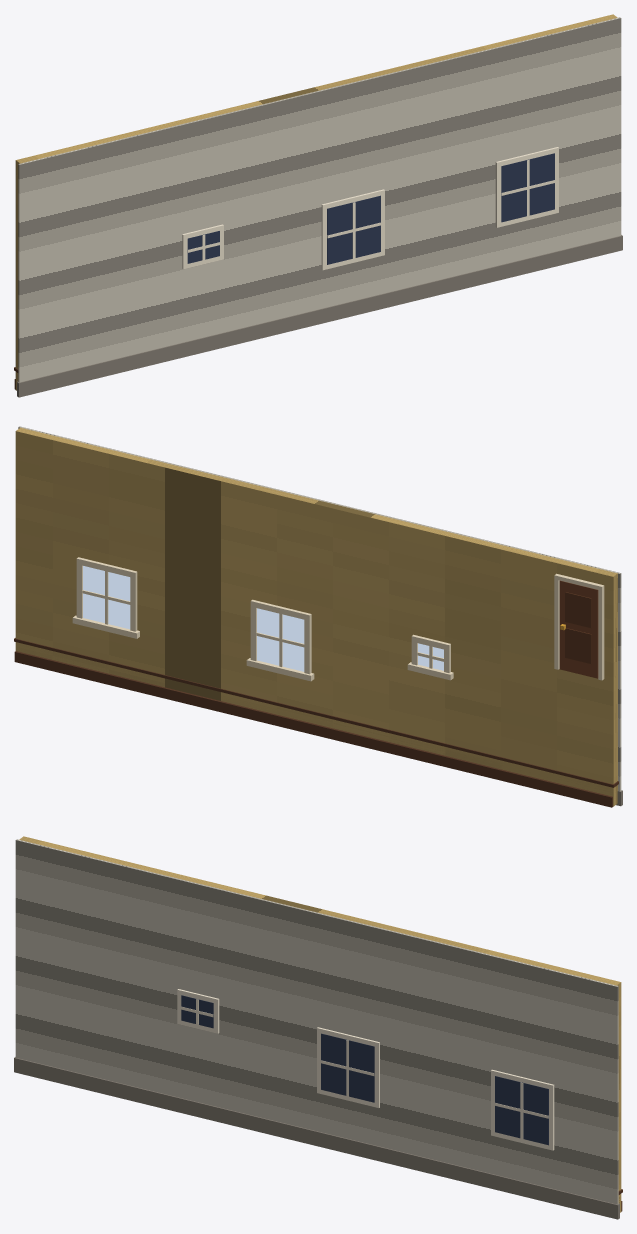
Rendered from back.glb.
3 views of the same model, one above another, from view 1: azimuth 30°, elevation 25°; view 2: azimuth 150°, elevation 25°; view 3: azimuth 330°, elevation 25° (orthographic).
Visible parts, largest first — view 1: Box3, Box4, Box1, Box6, Box17, Box16, Box5, Box28, Box27; view 2: Box1, Box2, Box42, Box43, Box13, Box24, slab, Box3, slab_panel, slab_panel2, Box39, Box40 (+2 smaller); view 3: Box3, Box4, Box1, Box6, Box17, Box16, Box5, Box27, Box28.
Part boxes in pixels (left/top/right/bottom): Box3: left=18, top=17, right=621, bottom=382; Box4: left=17, top=235, right=622, bottom=397; Box1: left=15, top=14, right=617, bottom=390; Box6: left=327, top=195, right=380, bottom=264; Box17: left=501, top=153, right=554, bottom=222; Box16: left=495, top=147, right=558, bottom=227; Box5: left=321, top=189, right=384, bottom=270; Box28: left=187, top=231, right=219, bottom=263; Box27: left=182, top=224, right=223, bottom=269; Box1: left=15, top=427, right=617, bottom=806; Box2: left=14, top=651, right=612, bottom=807; Box42: left=16, top=644, right=617, bottom=805; Box43: left=14, top=638, right=618, bottom=787; Box13: left=257, top=608, right=304, bottom=671; Box24: left=83, top=566, right=130, bottom=629; slab: left=559, top=580, right=598, bottom=678; Box3: left=18, top=426, right=621, bottom=791; slab_panel: left=565, top=628, right=591, bottom=663; slab_panel2: left=565, top=592, right=591, bottom=627; Box39: left=598, top=584, right=604, bottom=680; Box40: left=554, top=573, right=559, bottom=669; Box3: left=15, top=839, right=618, bottom=1204; Box4: left=14, top=1057, right=619, bottom=1219; Box1: left=19, top=836, right=621, bottom=1212; Box6: left=321, top=1033, right=374, bottom=1102; Box17: left=495, top=1076, right=548, bottom=1145; Box16: left=491, top=1069, right=554, bottom=1150; Box5: left=317, top=1027, right=379, bottom=1107; Box27: left=177, top=989, right=219, bottom=1033; Box28: left=181, top=995, right=213, bottom=1028.
Size of the model in its own units: 11.27 by 4.14 by 0.373.
Materials: 11 (2 with a texture image).
